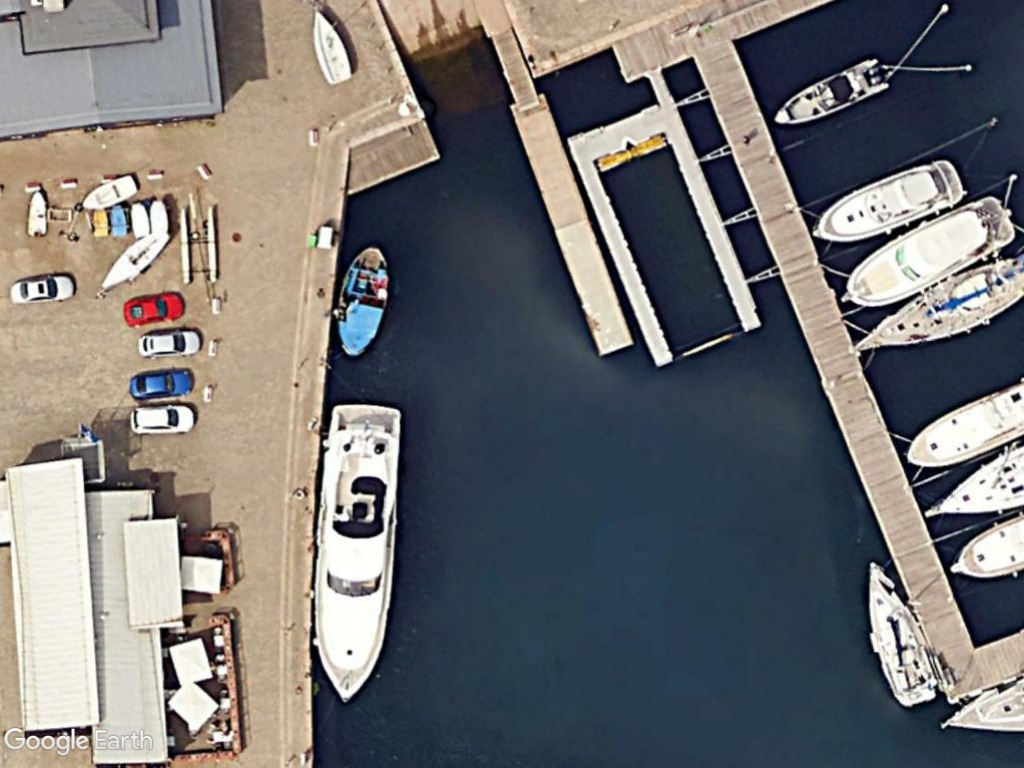boat: (308, 395, 406, 710), (837, 190, 1015, 312), (843, 251, 1024, 356), (808, 155, 968, 252), (860, 555, 943, 713), (769, 55, 893, 129), (333, 242, 399, 360), (97, 226, 174, 295), (309, 4, 359, 91), (80, 171, 146, 214)
car: (119, 289, 188, 332), (122, 400, 200, 437), (8, 269, 80, 307), (127, 367, 195, 405), (135, 324, 205, 360)
